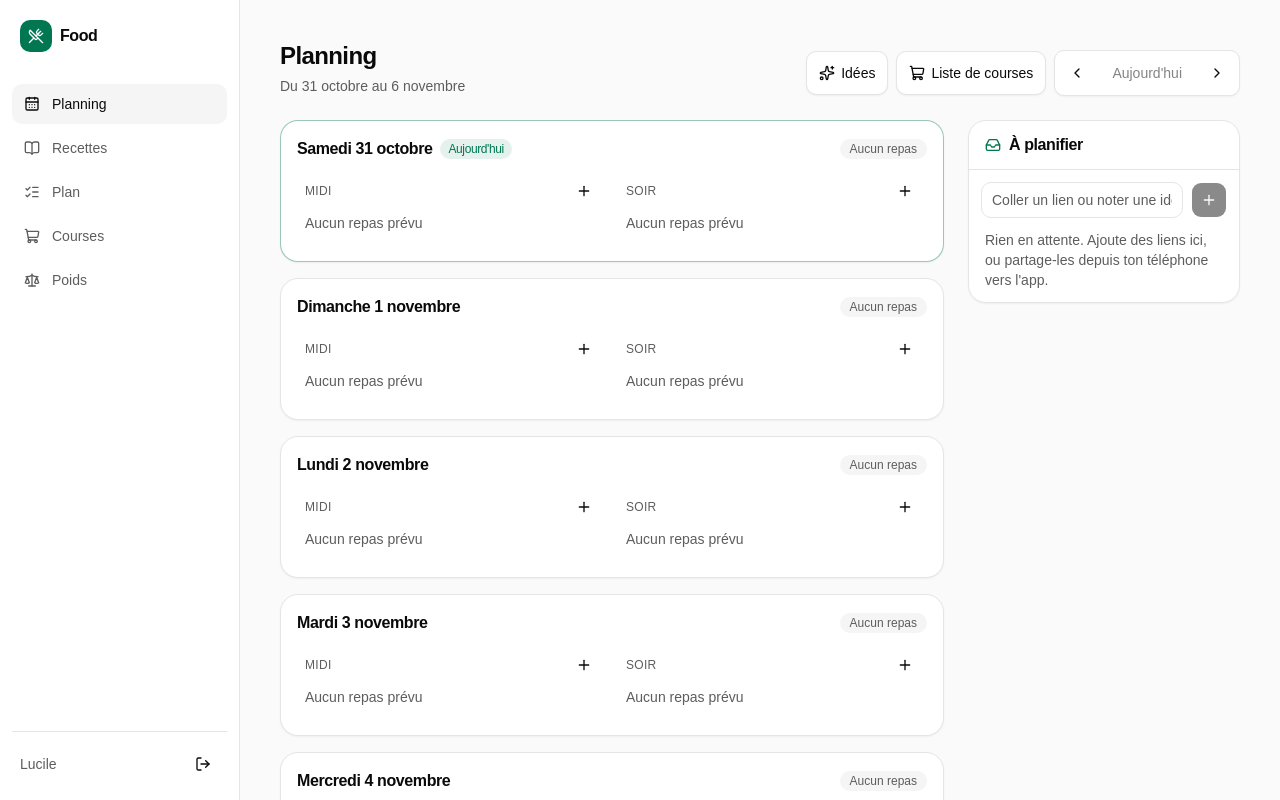
Scenario: App › déconnecte et revient à l’écran de connexion
Expected: the heading "Planning" is shown, [280, 42, 376, 69]
Click the button named "Se déconnecter" at (203, 764), box [187, 748, 219, 780]
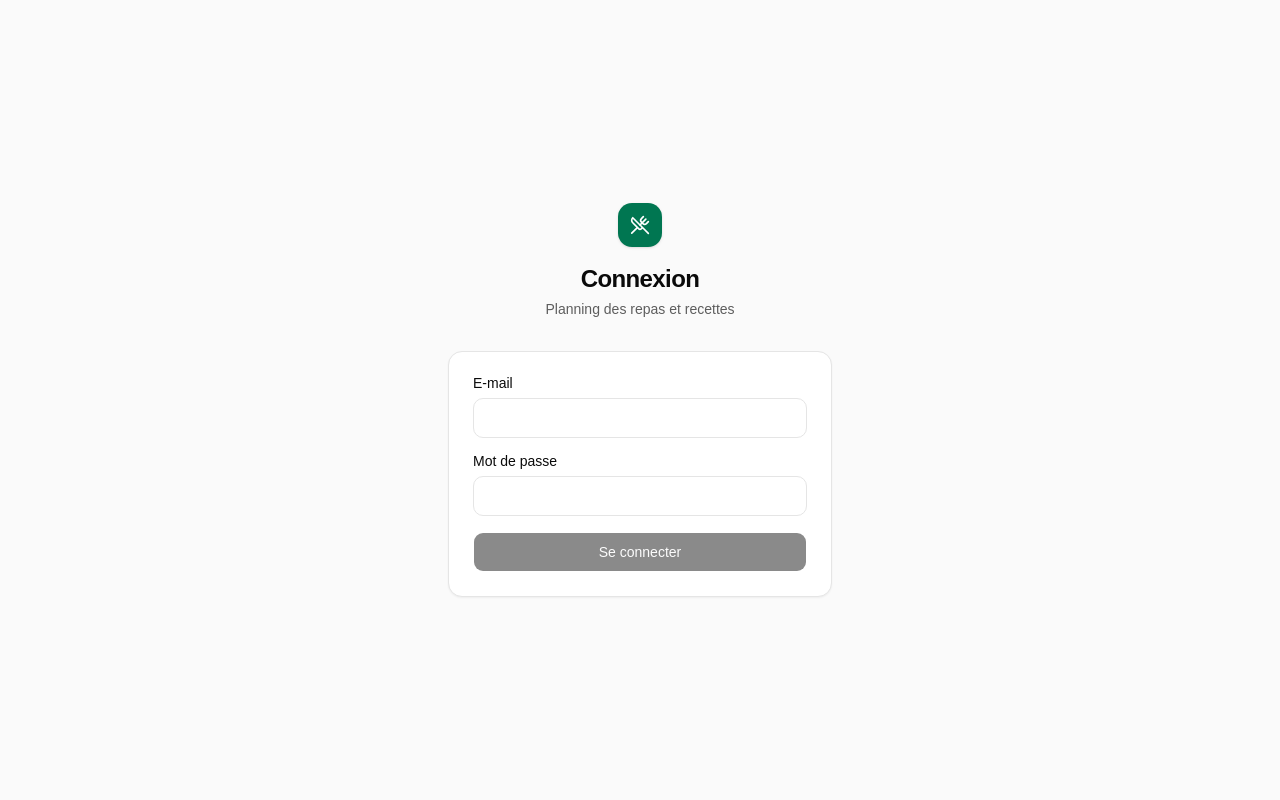
Now the heading "Connexion" is shown, box [581, 263, 699, 295]
